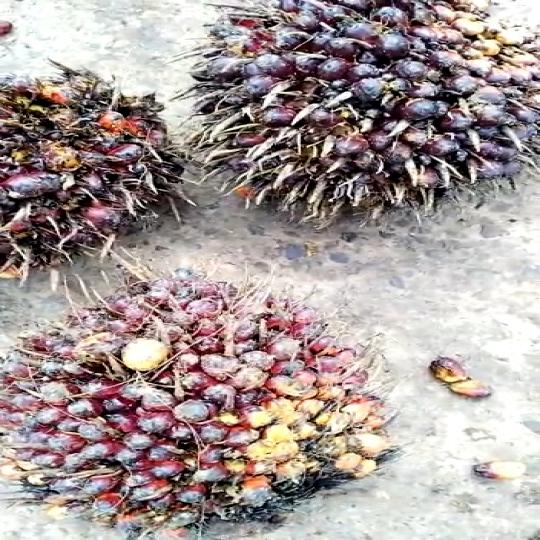masak: (0, 264, 405, 528), (190, 0, 538, 228), (0, 58, 192, 262)
